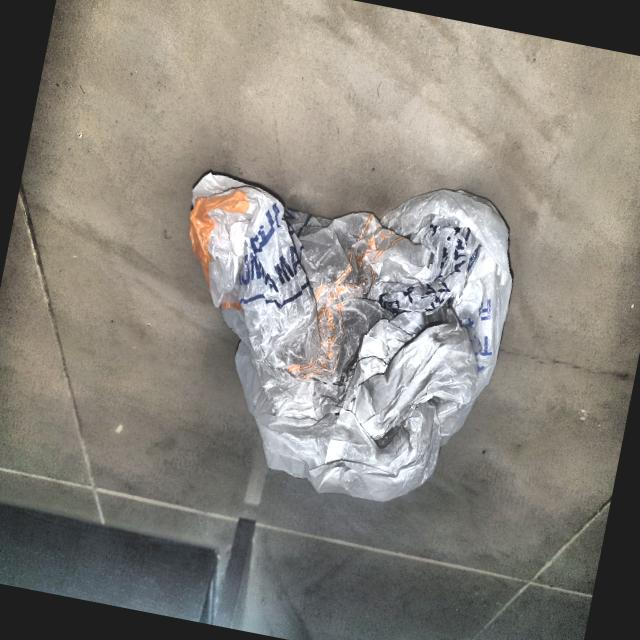plastic bag: (121, 103, 543, 534)
